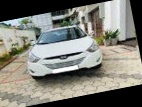car: (21, 21, 102, 81)
